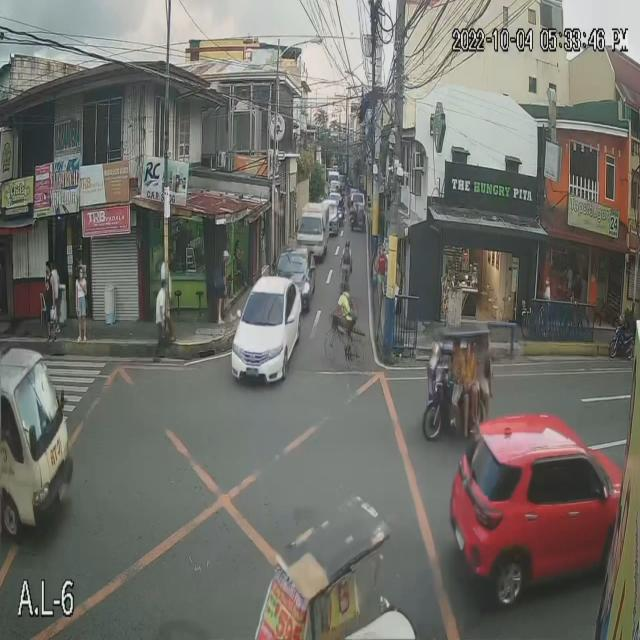Invalid: (338, 278, 346, 296), (344, 231, 350, 251)
